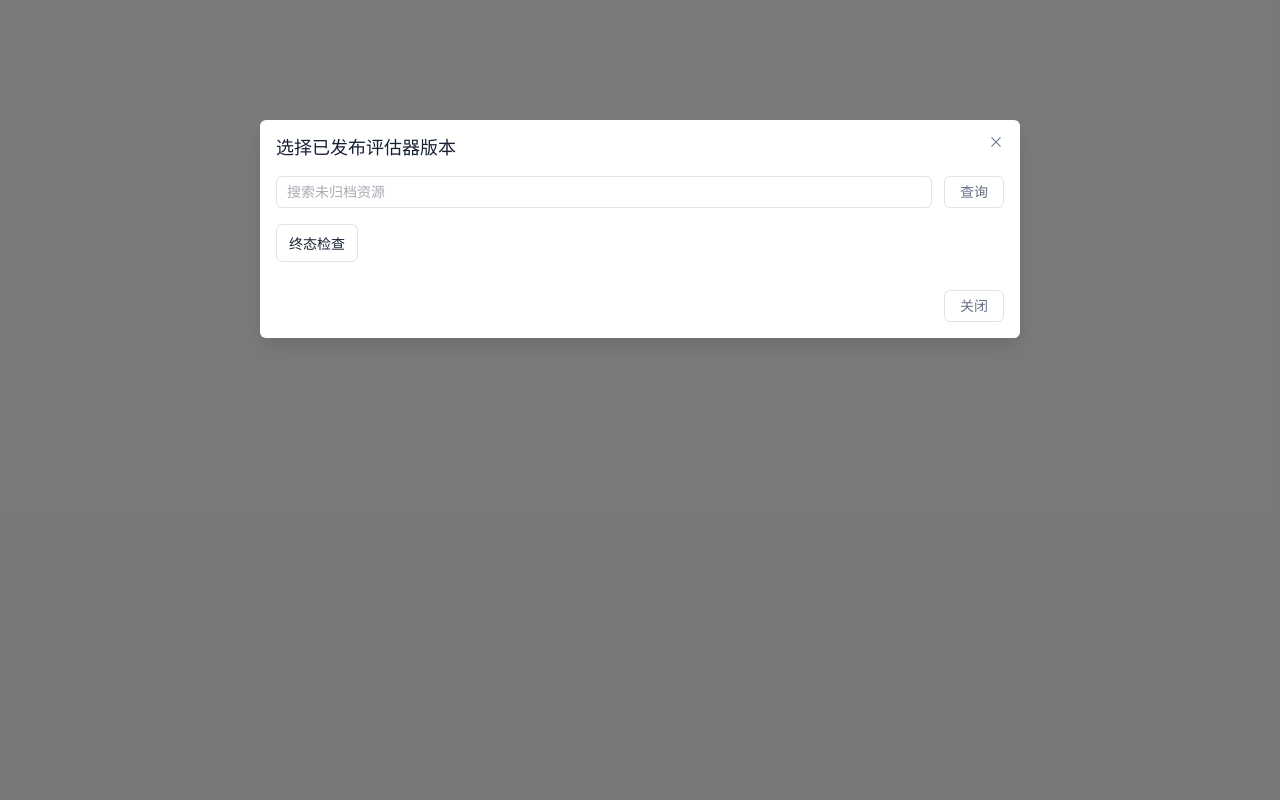
it: paged source and binding selectors › 线上规则只有显式的线上选择器能选择：false
Click the button "终态检查".
click(317, 243)  # box [276,224,358,262]
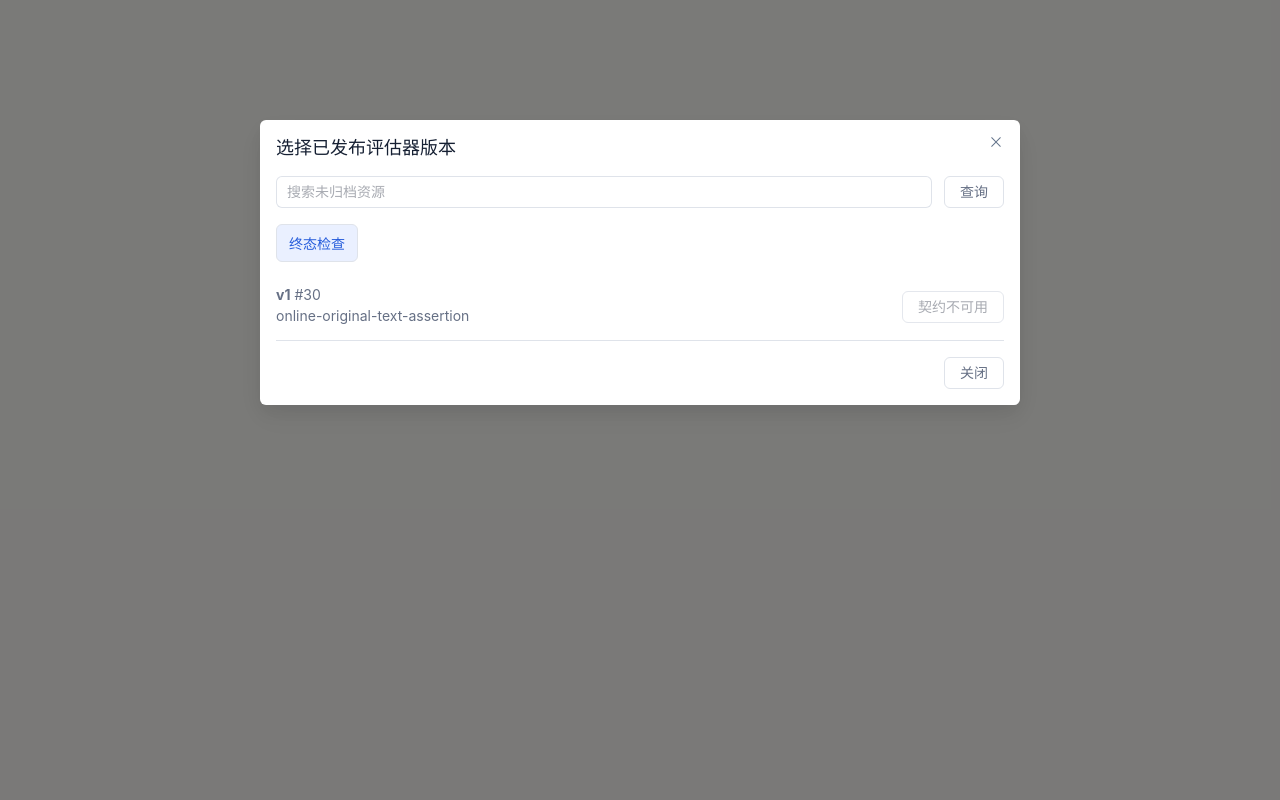
Check: the button "契约不可用" is disabled, box [902,291,1004,323]
